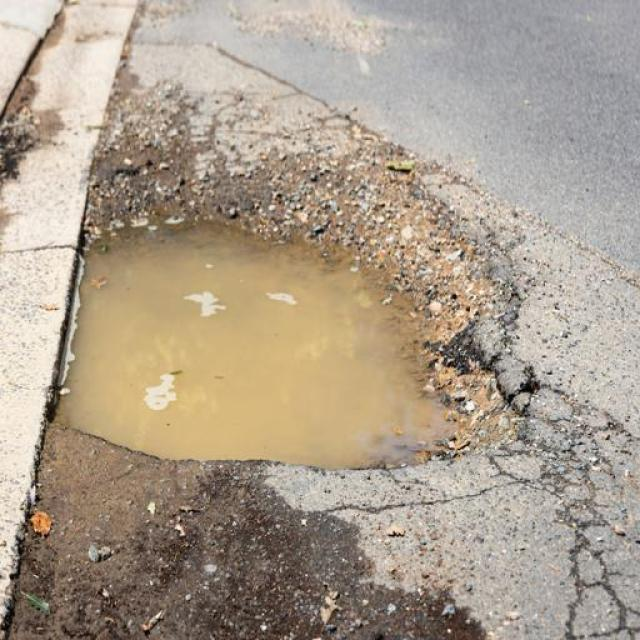puddle: (91, 227, 431, 456)
